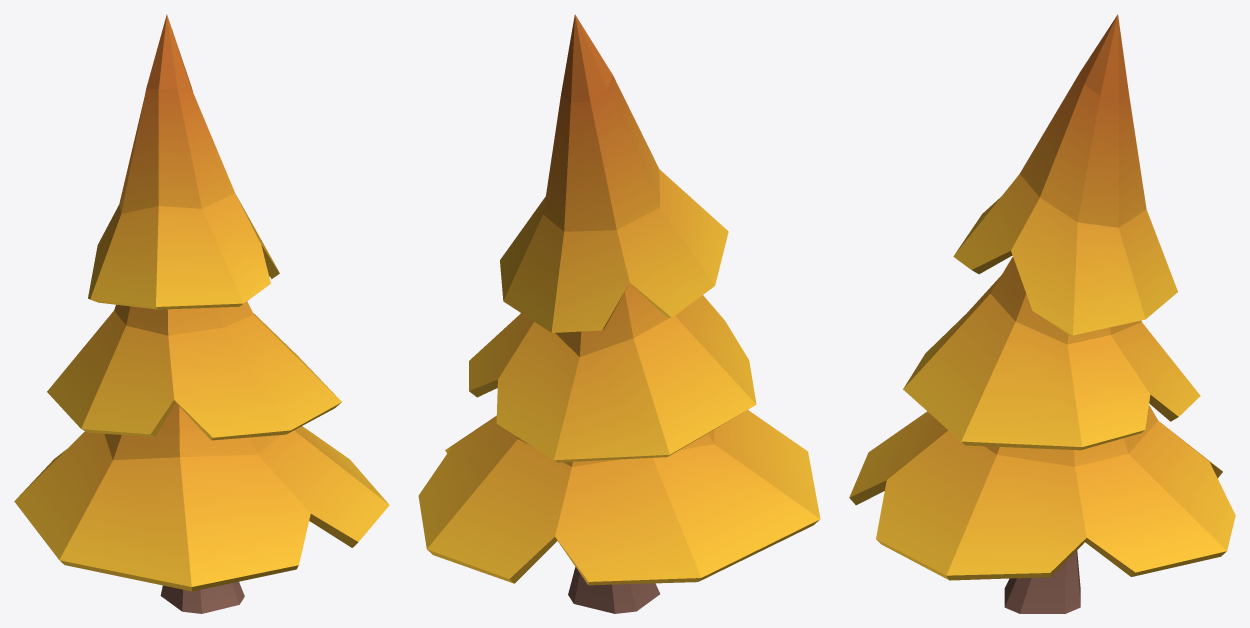
Rendered from AutumnPine3.fbx.
The picture shows the model from 3 angles, left to right: view 1: azimuth 30°, elevation 25°; view 2: azimuth 150°, elevation 25°; view 3: azimuth 270°, elevation 25°; orthographic projection. The views are drawn at different scales.
Visible parts, largest first — view 1: AutumnPine3; view 2: AutumnPine3; view 3: AutumnPine3.
Boxes of the visible parts, left/top/right/bottom form: AutumnPine3: left=14, top=14, right=389, bottom=613; AutumnPine3: left=418, top=14, right=820, bottom=613; AutumnPine3: left=849, top=14, right=1235, bottom=613.
Bounding box in the file's own units: 366 × 613 × 368.
